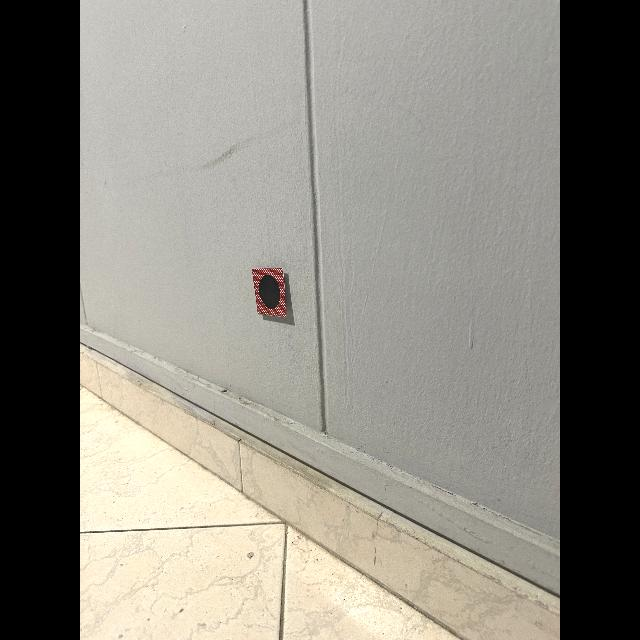CIRCLE: (259, 275, 280, 309)
